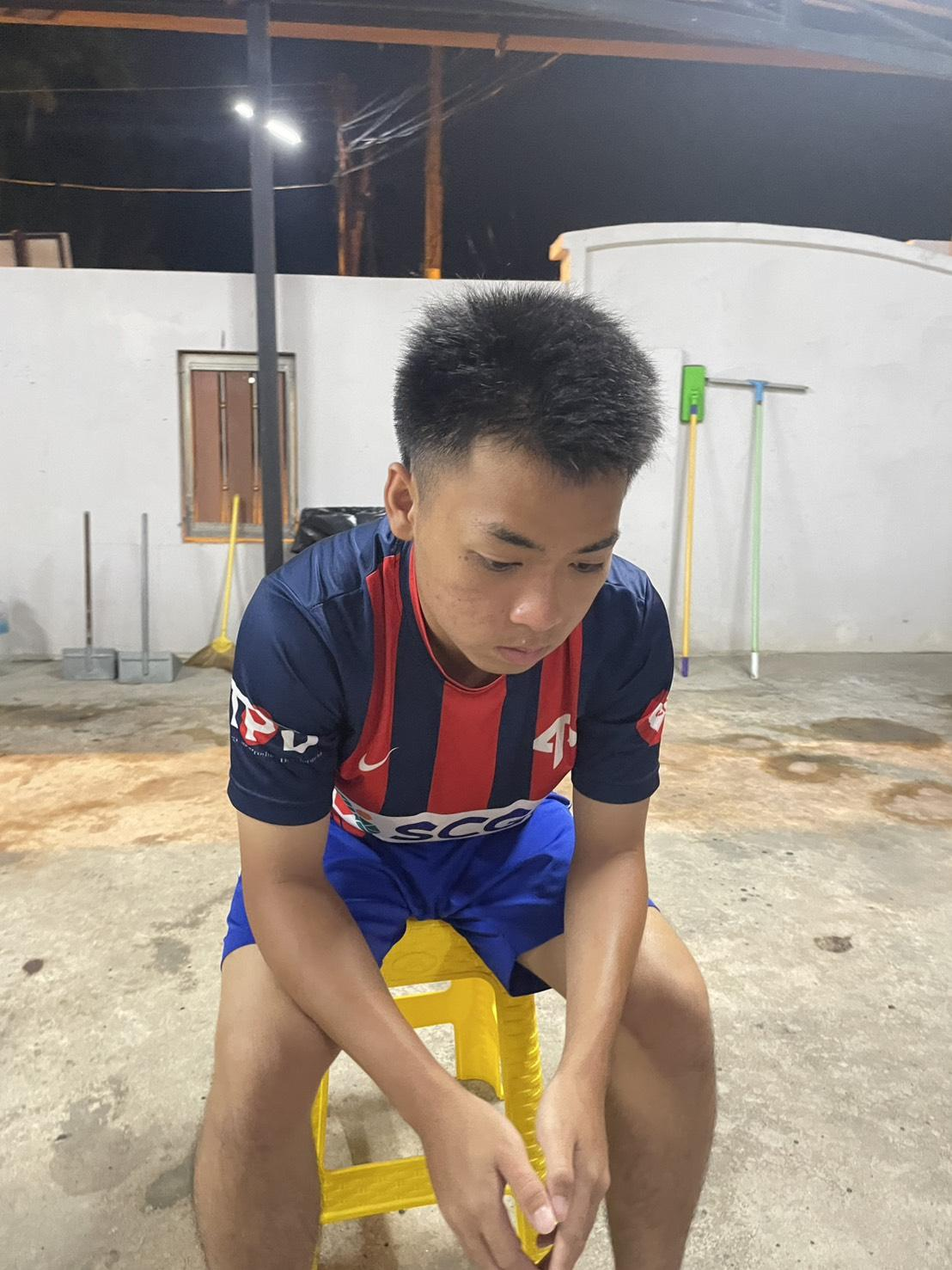BadPosture: (229, 288, 672, 851)
